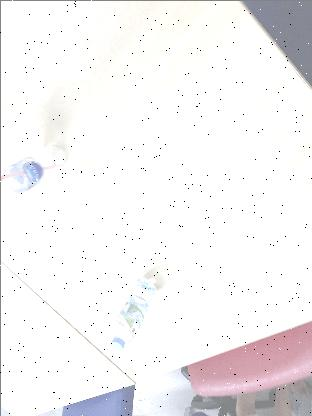Plastic Bottle: (1, 145, 68, 203), (109, 276, 157, 352)
